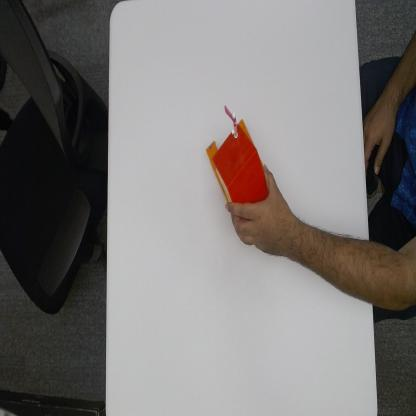Arm: (295, 215, 370, 312)
Hand: (230, 165, 294, 258)
House: (205, 104, 268, 209)
